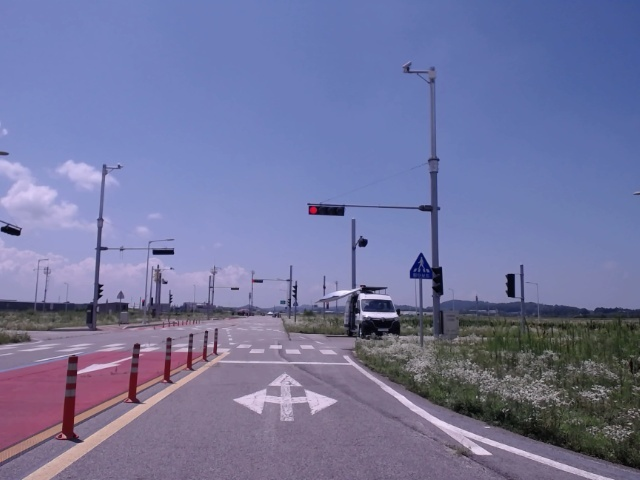red_4: (309, 205, 344, 215)
